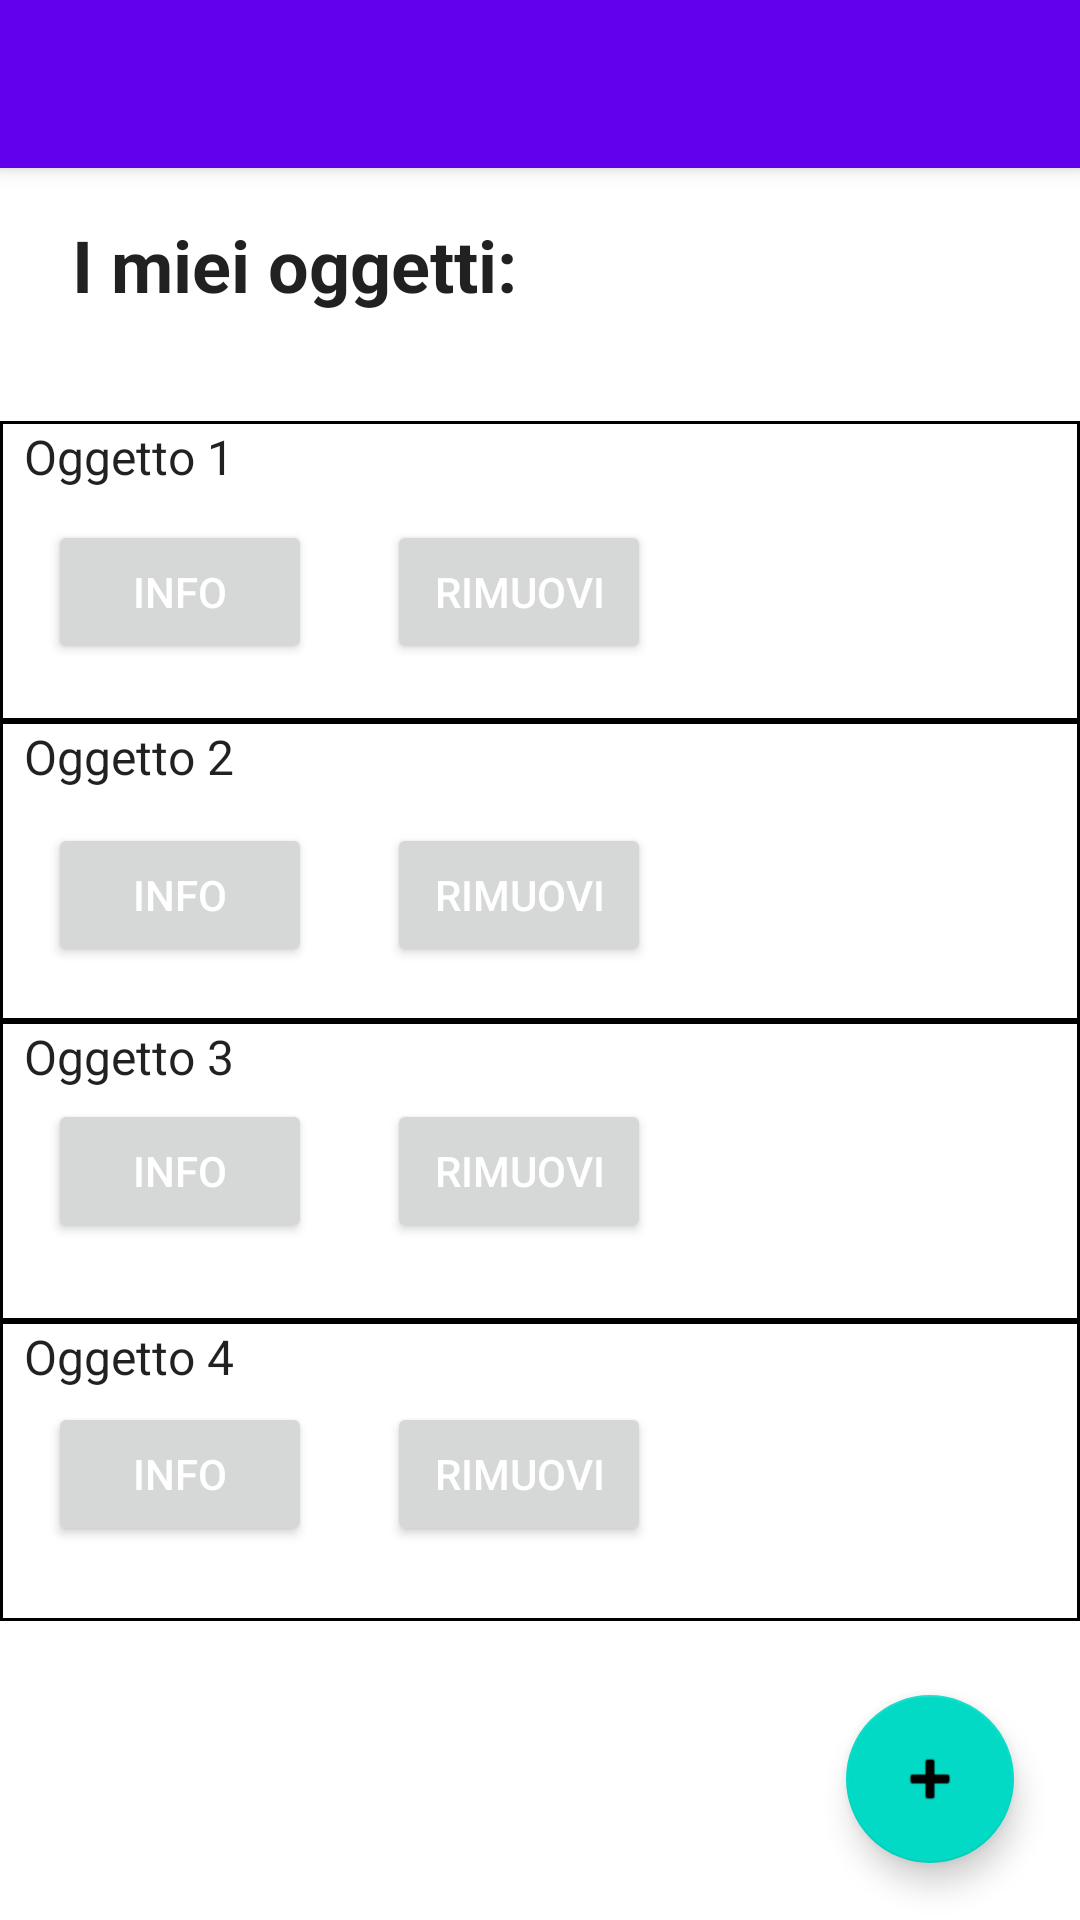

Named icons in this screenshot (1080×1920) and their bounding boxes, (left=x1, top=y1, right=x2, bottom=y2):
add: (left=846, top=1695, right=1014, bottom=1863)
